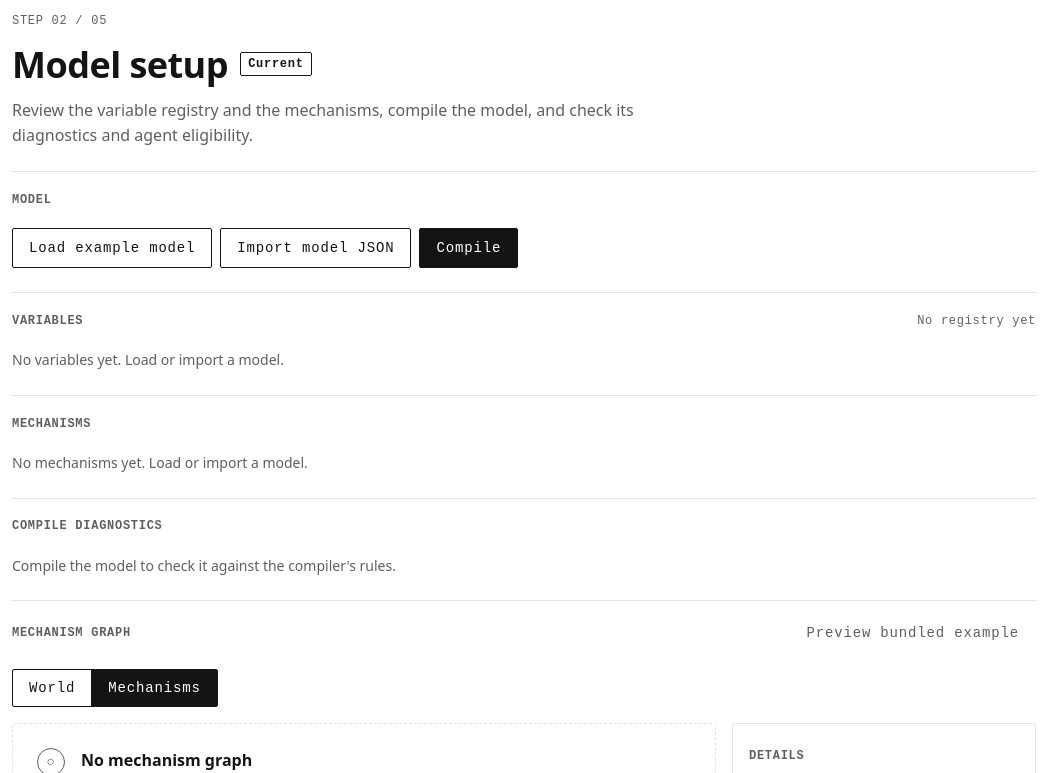
Test: Step2ModelSetup › compile › explains a compile with no model (404 model_not_found)
What coordinates should you click on to do the following:
click the button with test id "compile"
I would click on:
 (469, 248)
Its box is [420,228,518,268].
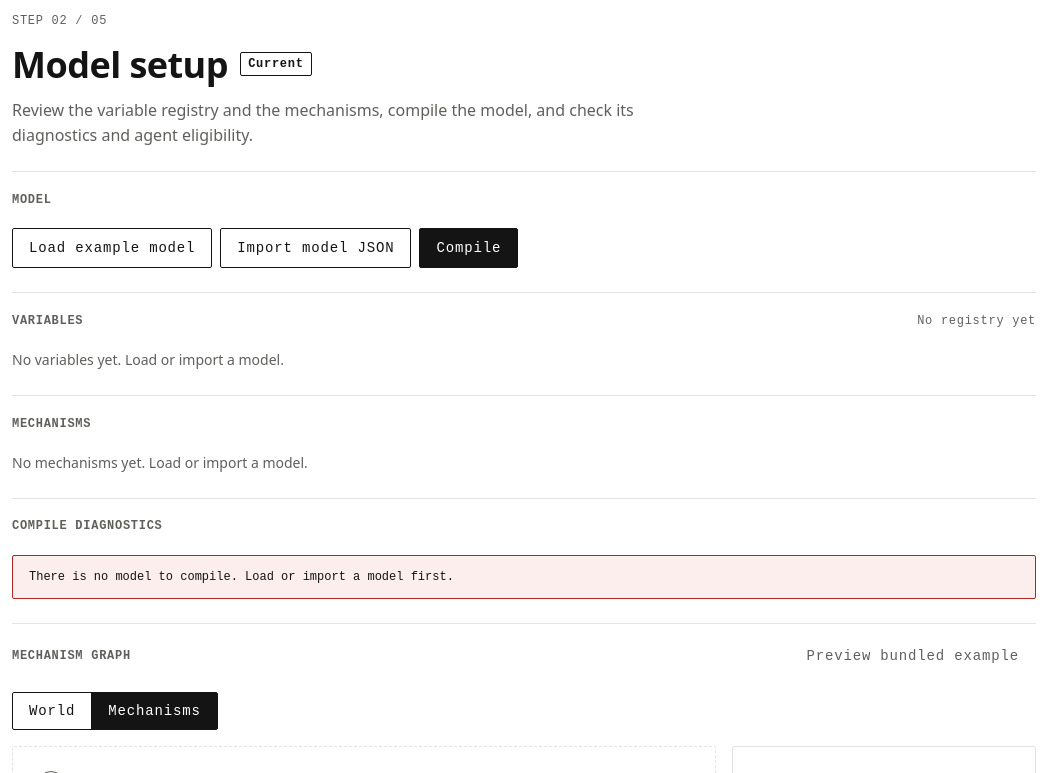
Result: the message with test id "compile-error" shows "There is no model to compile" at [29,570,454,584]
